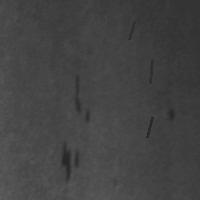inclusion: (67, 72, 92, 125), (58, 140, 82, 186), (164, 103, 179, 126), (145, 115, 154, 139), (127, 20, 136, 41), (148, 57, 154, 85)
